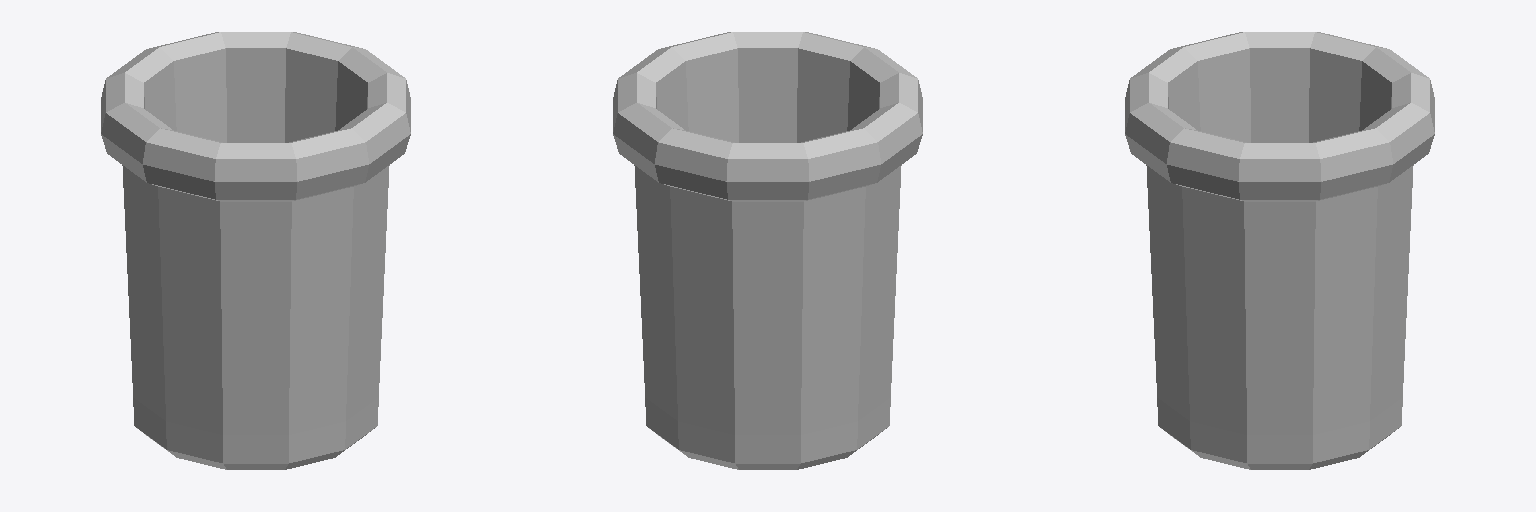
File: coffee_cup_takeaway.obj
3 views of the same model, side by side, from view 1: azimuth 30°, elevation 25°; view 2: azimuth 150°, elevation 25°; view 3: azimuth 270°, elevation 25° (orthographic).
Visible parts, largest first — view 1: coffee_cup_takeaway; view 2: coffee_cup_takeaway; view 3: coffee_cup_takeaway.
Part boxes in pixels (x1,y1,x2,y2): coffee_cup_takeaway: (101, 32, 410, 469); coffee_cup_takeaway: (613, 32, 922, 469); coffee_cup_takeaway: (1125, 32, 1434, 469).
Size of the model in its own units: 0.3419 by 0.41 by 0.3419.